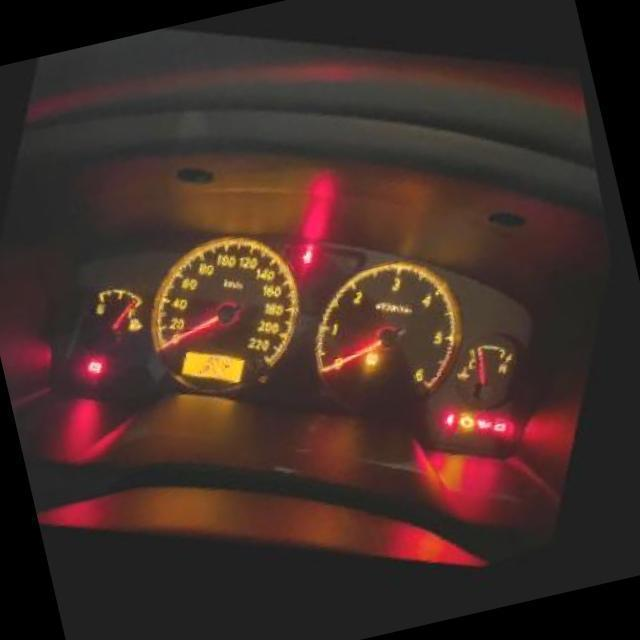Engine cooling system: (459, 369, 481, 392)
Low fuel level: (130, 316, 146, 334)
